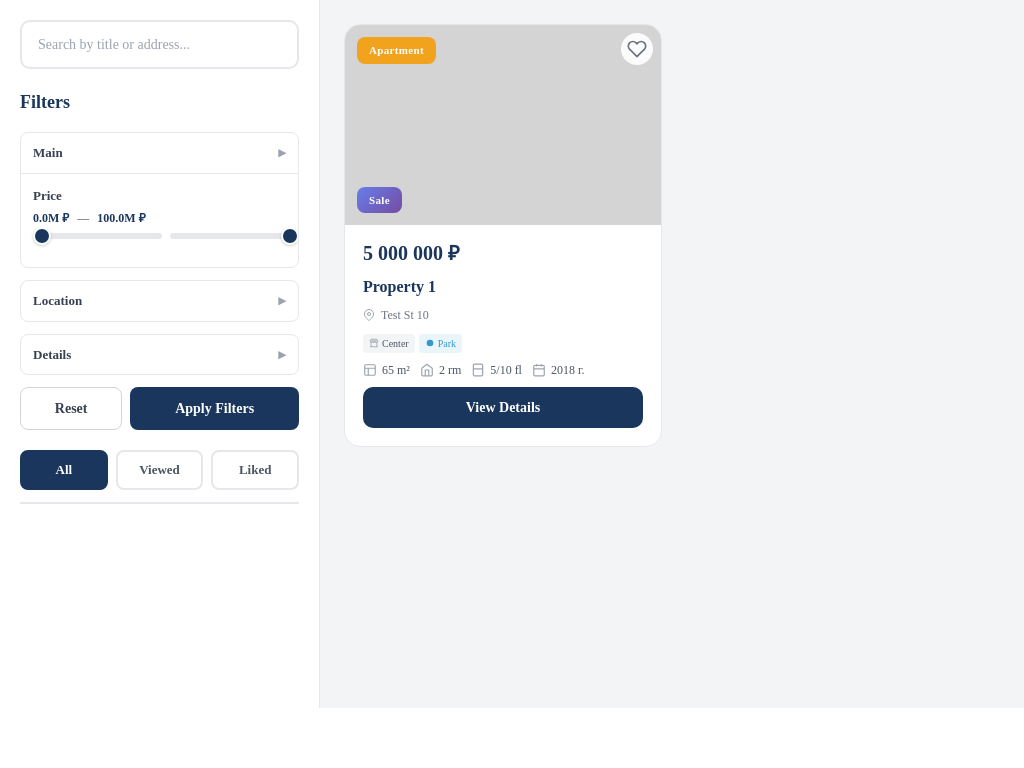
Scenario: Catalog Page › switches between tabs and loads corresponding data
This screenshot has width=1024, height=768.
Expected: the heading "Property 1" is shown, [363,278,436,295]
Click the button "Viewed" at coordinates (160, 470), box [116,450,203,490]
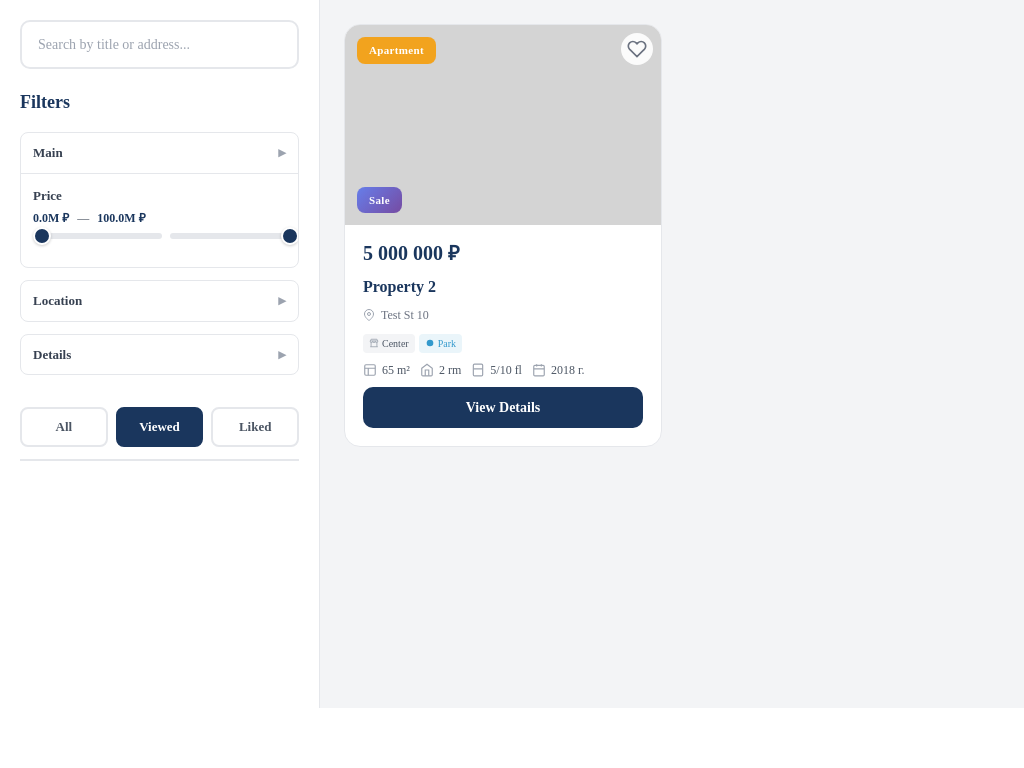
Expected: the heading "Property 2" is shown, [363,278,436,295]
